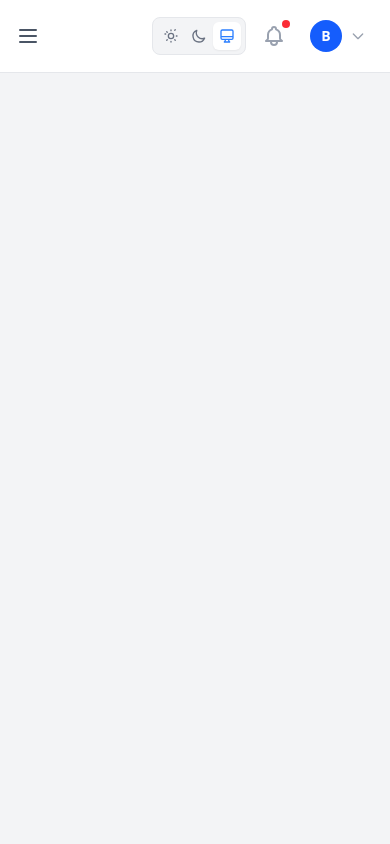
Test: Responsive Layout & Mobile Navigation Drawer › closes mobile drawer when clicking the close button inside sidebar
What coordinates should you click on to do the following:
click the button with test id "hamburger-button"
I would click on:
 (28, 36)
Its box is [8,16,48,56].
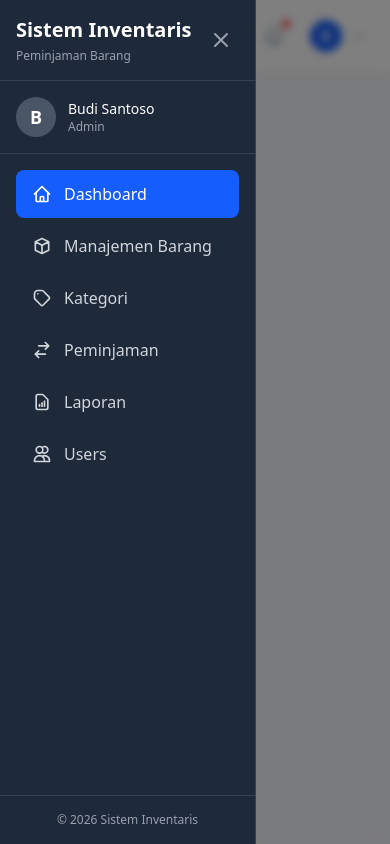
What coordinates should you click on to do the following:
click the button with test id "sidebar-close-button"
I would click on:
 (221, 40)
Its box is [203,22,239,58].
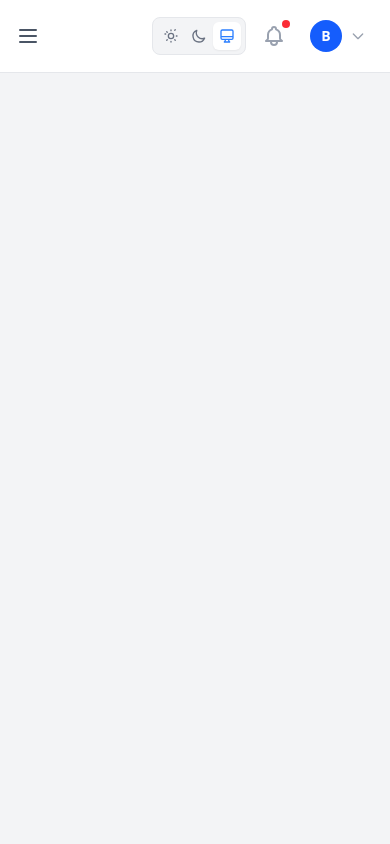
Now the element with test id "sidebar-backdrop" is gone
